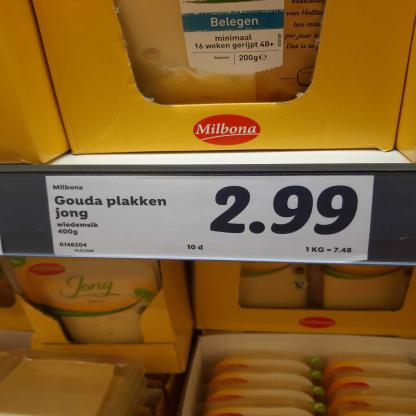prtg: (46, 176, 375, 264)
